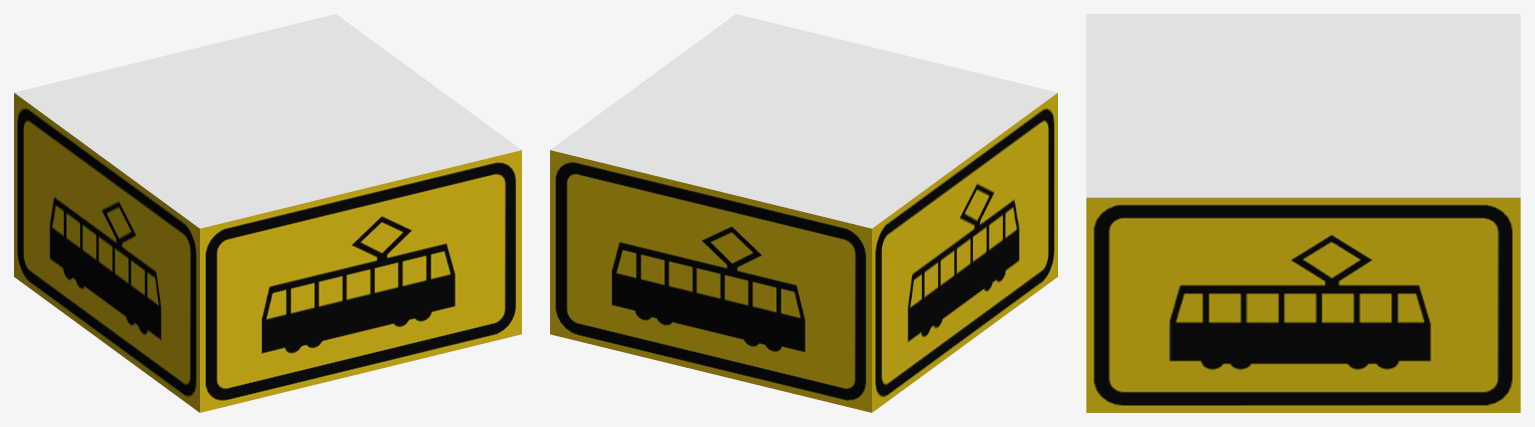
Rendered from P_tramstop-symbol.FBX.
3 views of the same model, side by side, from view 1: azimuth 30°, elevation 25°; view 2: azimuth 150°, elevation 25°; view 3: azimuth 270°, elevation 25° (orthographic). The views are drawn at different scales.
Visible parts, largest first — view 1: P_tramstop-symbol; view 2: P_tramstop-symbol; view 3: P_tramstop-symbol.
Boxes of the visible parts, box(x1,y1,x2,y2) form: P_tramstop-symbol: box(14, 14, 521, 412); P_tramstop-symbol: box(550, 14, 1057, 412); P_tramstop-symbol: box(1086, 14, 1520, 412).
Bounding box in the file's own units: 1.02 × 0.5605 × 1.02.
